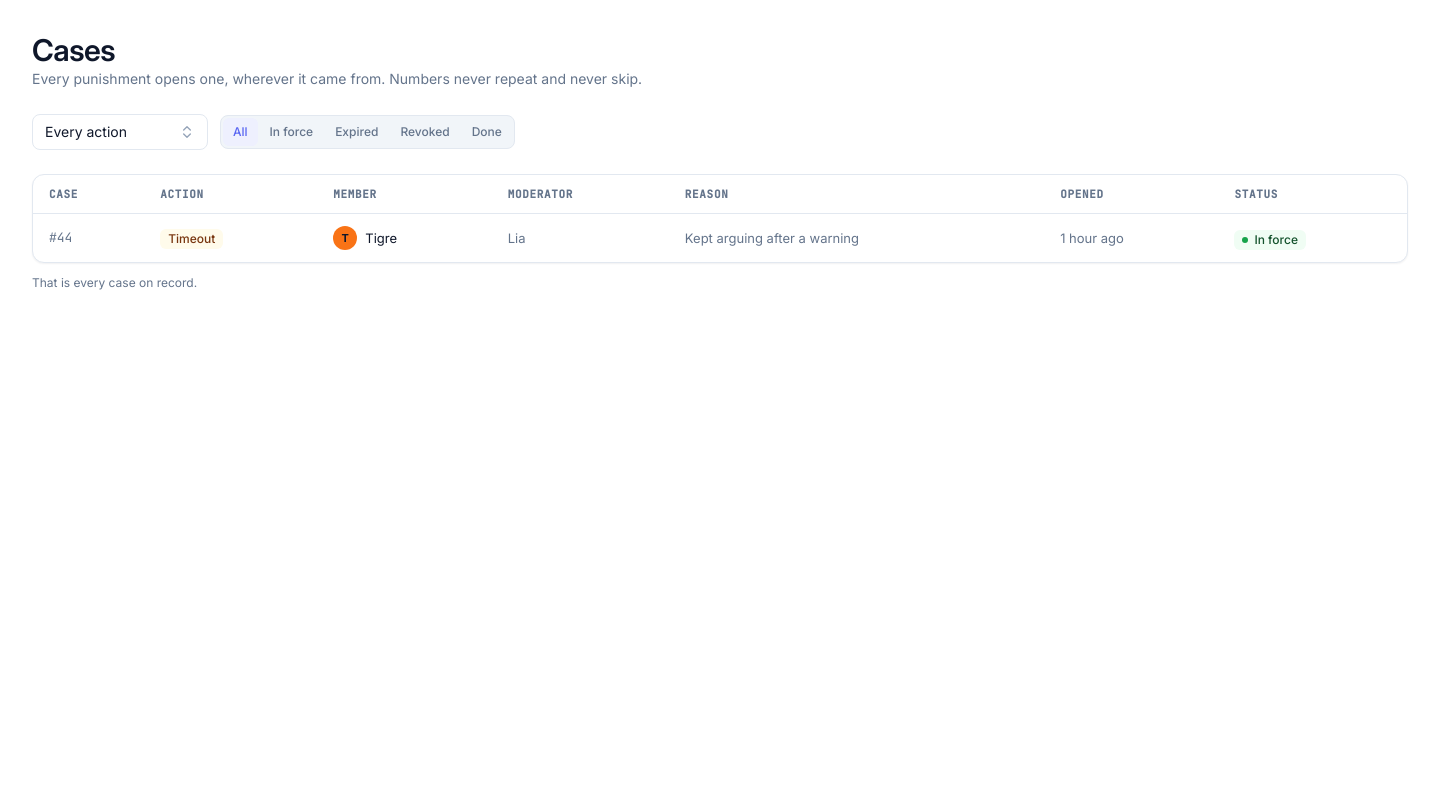
Test: CasesScreen › reads the duration in words rather than in seconds
Click the button with aria-label "Open case 44".
click(720, 238)  # box [33,214,1407,262]
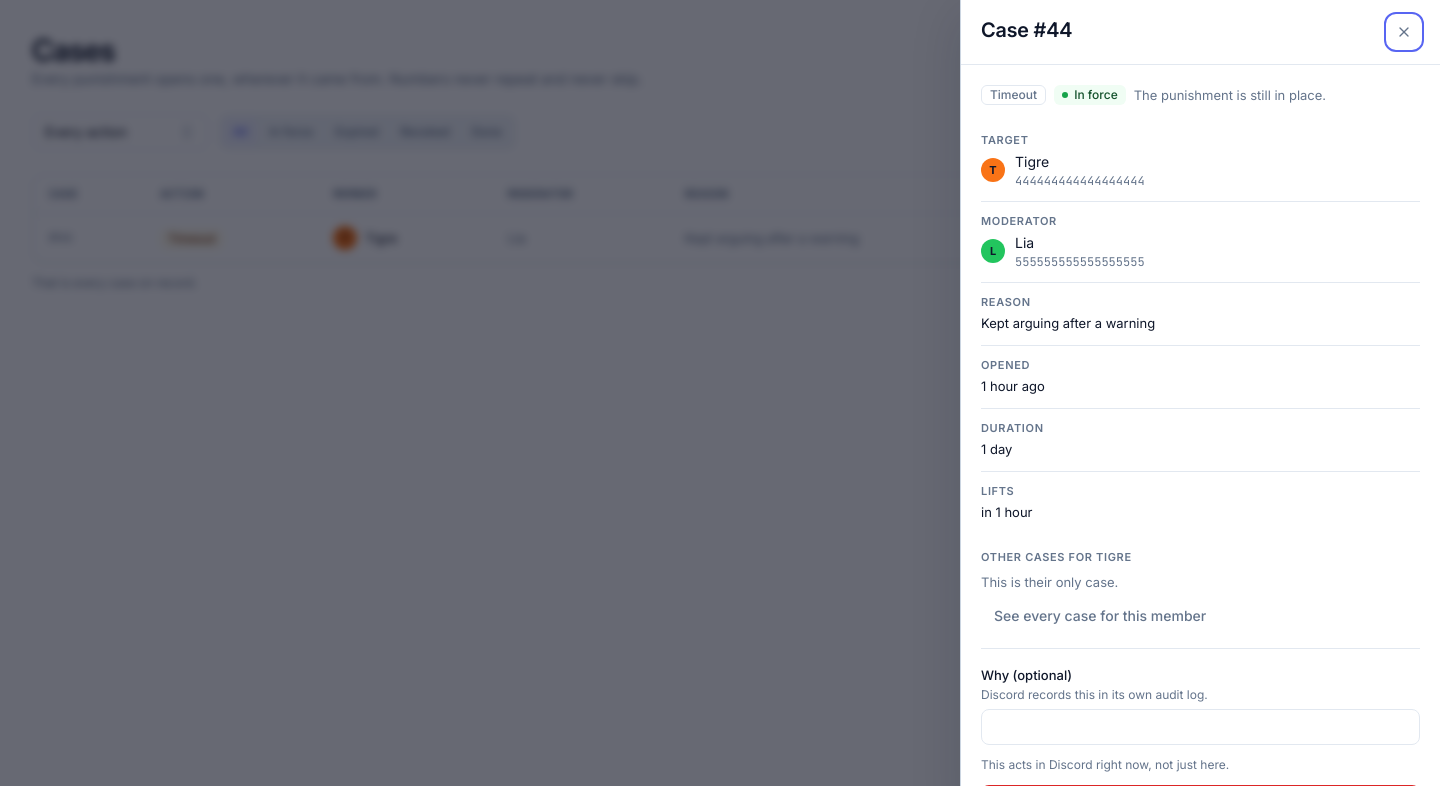
Expected: the text "1 day" is shown, [981,441,1012,457]
